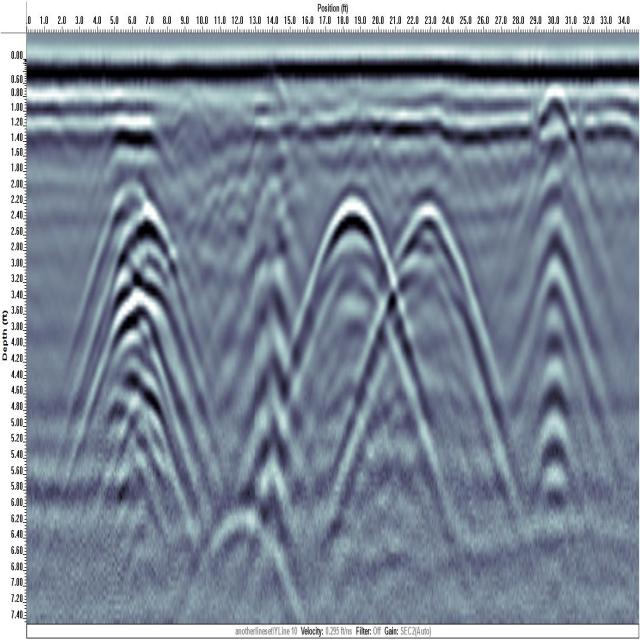hyperbola: (303, 176, 405, 328), (386, 181, 481, 343), (520, 206, 590, 352)
